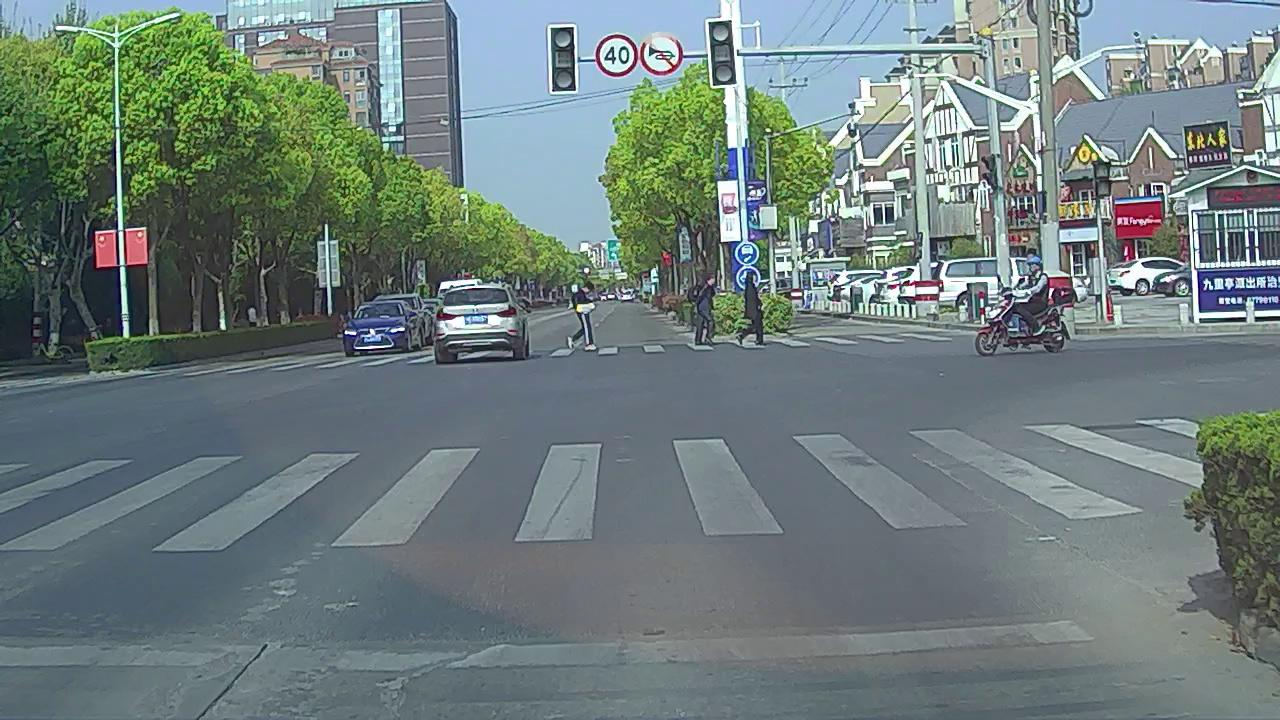traffic_light: (549, 27, 576, 91), (709, 22, 735, 86)
